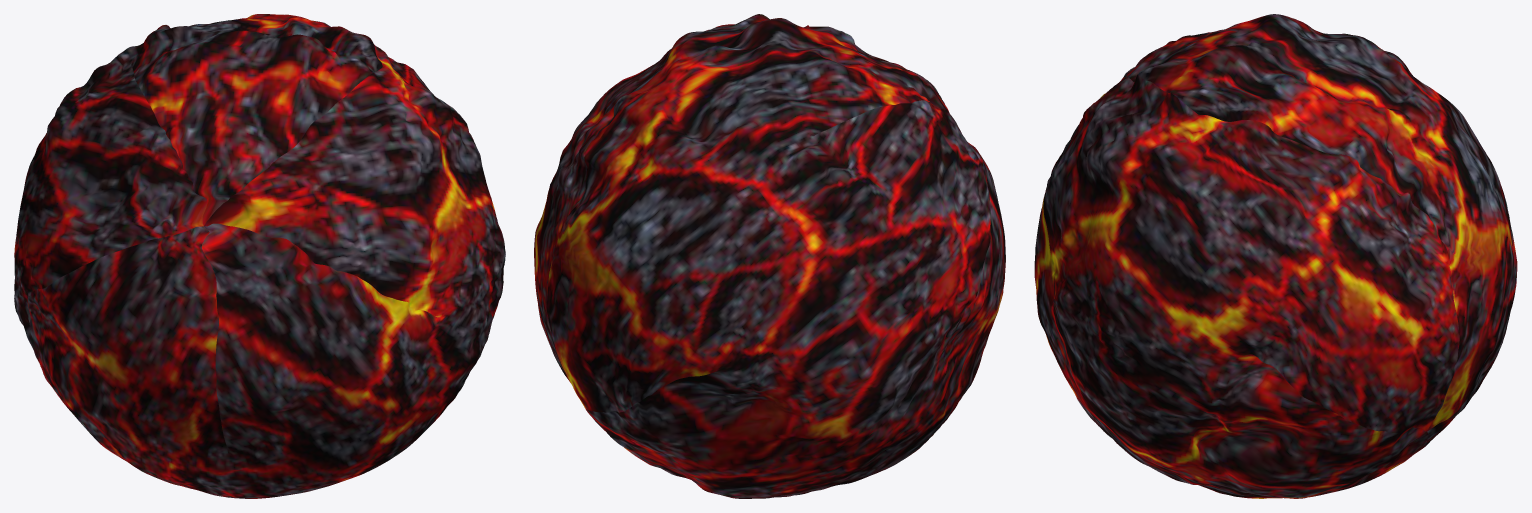
File: planet2.ee921d59.gltf
3 renders of one model, left to right at view 1: azimuth 30°, elevation 25°; view 2: azimuth 150°, elevation 25°; view 3: azimuth 270°, elevation 25°, orthographic. The views are drawn at different scales.
Parts seen in each view (by area): view 1: Planet; view 2: Planet; view 3: Planet.
Part boxes in pixels (x1=…): Planet: x1=14, y1=14, x2=505, y2=498; Planet: x1=534, y1=14, x2=1005, y2=498; Planet: x1=1034, y1=14, x2=1517, y2=498.
Bounding box in the file's own units: 1.95 × 1.99 × 1.98.
Materials: 1 (1 with a texture image).
